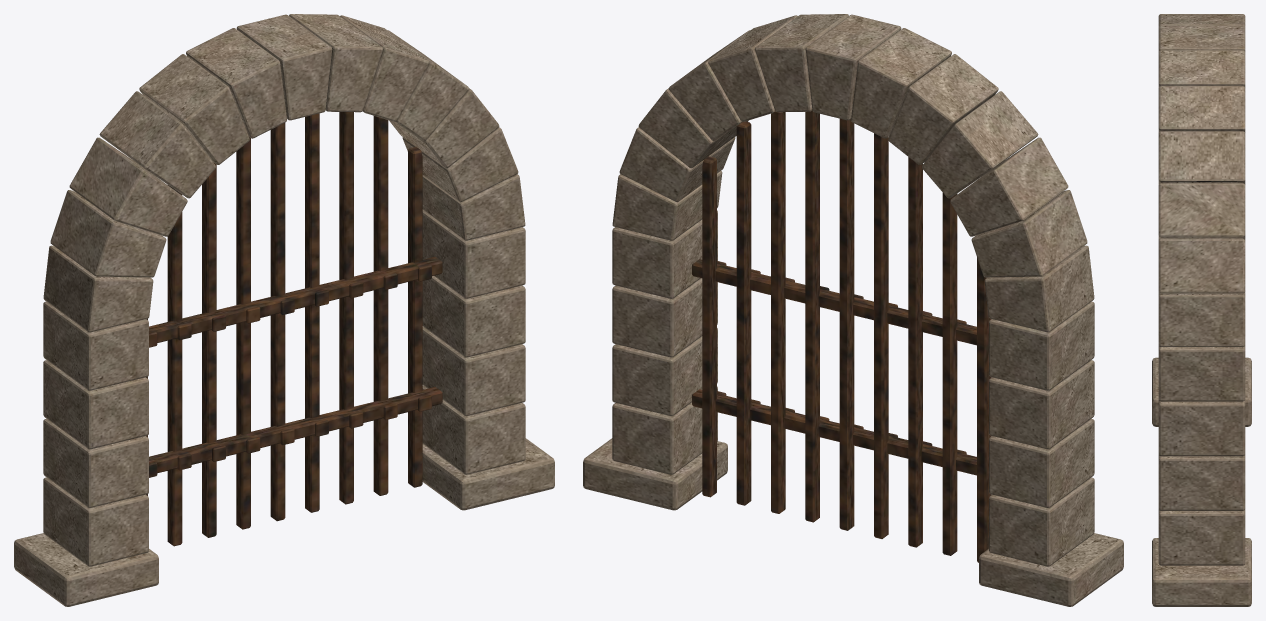
File: gate.glb
3 views of the same model, side by side, from view 1: azimuth 30°, elevation 25°; view 2: azimuth 150°, elevation 25°; view 3: azimuth 270°, elevation 25° (orthographic). The views are drawn at different scales.
Visible parts, largest first — view 1: gate; view 2: gate; view 3: gate.
Boxes of the visible parts, bbox=[...] form: gate: bbox=[14, 14, 554, 606]; gate: bbox=[583, 14, 1123, 606]; gate: bbox=[1152, 14, 1251, 606].
Bounding box in the file's own units: 2.8 × 2.69 × 0.53.
Materials: 1 (1 with a texture image).
